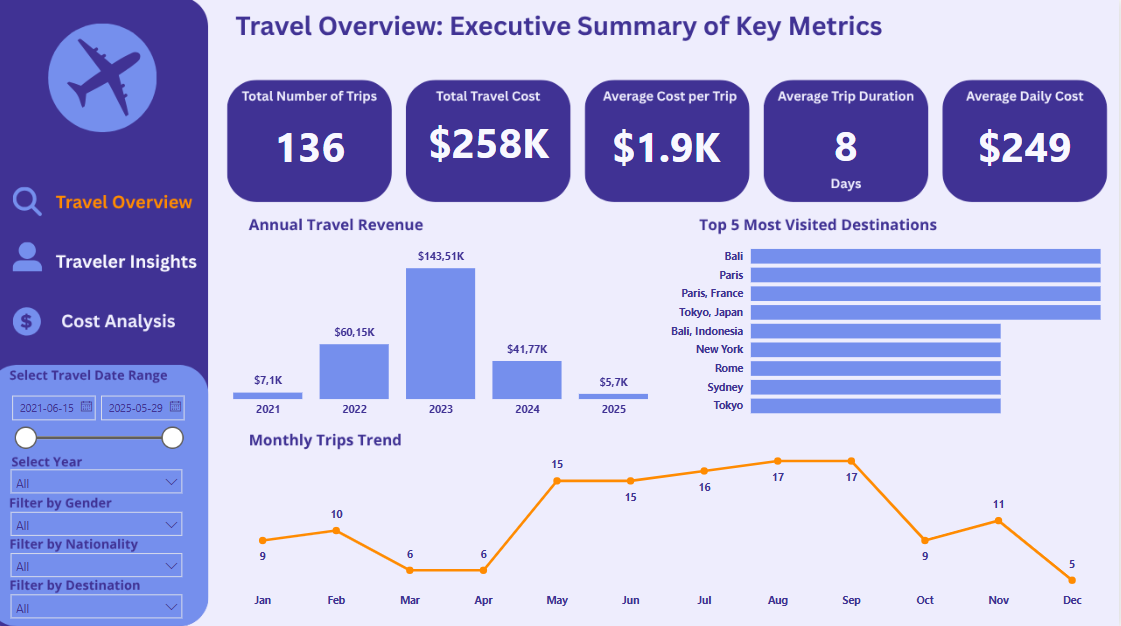

This screenshot's page, from the dashboard's own definition file:
{"tool":"powerbi","page":{"name":"Travel Overview","canvas":[1280,720],"ordinal":1},"visuals":[{"type":"card","fields":{"Values":["Travel details dataset.Total Revenue"]},"box":[466.8,103,184.2,120.2],"z":0},{"type":"card","fields":{"Values":["Travel details dataset.Total Trips"]},"box":[262.3,107.7,185,120],"z":1000},{"type":"card","fields":{"Values":["Travel details dataset.AverageCostFormatted"]},"box":[669.8,107.7,184.2,120.2],"z":2000},{"type":"card","fields":{"Values":["Travel details dataset.Average Duration"]},"box":[875.7,105.7,184.3,121.4],"z":3000},{"type":"card","fields":{"Values":["Travel details dataset.Cost per Day"]},"box":[1080.5,107.7,184.2,120.2],"z":4000},{"type":"lineChart","fields":{"Category":["DateTable.MonthName"],"Y":["Travel details dataset.Total Trips"]},"box":[262.3,502.8,1002.4,203],"z":5000},{"type":"barChart","fields":{"Category":["Travel details dataset.Destination"],"Y":["CountNonNull(Travel details dataset.Trip ID)"]},"box":[761.9,263.9,502.8,223.3],"z":6000},{"type":"actionButton","title":"Travel Insights","box":[6.9,268.5,230,65.4],"z":7000},{"type":"actionButton","title":"Travel Insights","box":[6.9,335.4,230,66.2],"z":8000},{"type":"actionButton","title":"Travel Insights","box":[6.9,201.5,230,64.6],"z":9000},{"type":"slicer","fields":{"Values":["DateTable.Date"]},"box":[7.1,448.6,207.1,78.6],"z":10000},{"type":"slicer","fields":{"Values":["Travel details dataset.Destination"]},"box":[8.6,675.7,205.7,44.3],"z":11000},{"type":"slicer","fields":{"Values":["Travel details dataset.Traveler Nationality"]},"box":[8.6,628.6,205.7,34.3],"z":12000},{"type":"columnChart","fields":{"Category":["DateTable.Year"],"Y":["Travel details dataset.Total Revenue"]},"box":[262.3,265.4,484,221.7],"z":13000},{"type":"slicer","fields":{"Values":["Travel details dataset.Traveler Gender"]},"box":[8.6,582,205.7,35.7],"z":14000},{"type":"slicer","fields":{"Values":["DateTable.Year"]},"box":[8,533,205.7,34.3],"z":15000}]}

Visuals, with their boxes in screenshot pixels (x1, y1, x2, y2), scaled from the page's 1280x720 canvas onto the 1121x626 screenshot:
card - Travel details dataset.Total Revenue: BBox(409, 90, 570, 194)
card - Travel details dataset.Total Trips: BBox(230, 94, 392, 198)
card - Travel details dataset.AverageCostFormatted: BBox(587, 94, 748, 198)
card - Travel details dataset.Average Duration: BBox(767, 92, 928, 197)
card - Travel details dataset.Cost per Day: BBox(946, 94, 1108, 198)
lineChart - DateTable.MonthName x Travel details dataset.Total Trips: BBox(230, 437, 1108, 614)
barChart - Travel details dataset.Destination x CountNonNull(Travel details dataset.Trip ID): BBox(667, 229, 1108, 424)
"Travel Insights" actionButton: BBox(6, 233, 207, 290)
"Travel Insights" actionButton: BBox(6, 292, 207, 349)
"Travel Insights" actionButton: BBox(6, 175, 207, 231)
slicer - DateTable.Date: BBox(6, 390, 188, 458)
slicer - Travel details dataset.Destination: BBox(8, 587, 188, 625)
slicer - Travel details dataset.Traveler Nationality: BBox(8, 547, 188, 576)
columnChart - DateTable.Year x Travel details dataset.Total Revenue: BBox(230, 231, 654, 424)
slicer - Travel details dataset.Traveler Gender: BBox(8, 506, 188, 537)
slicer - DateTable.Year: BBox(7, 463, 187, 493)
